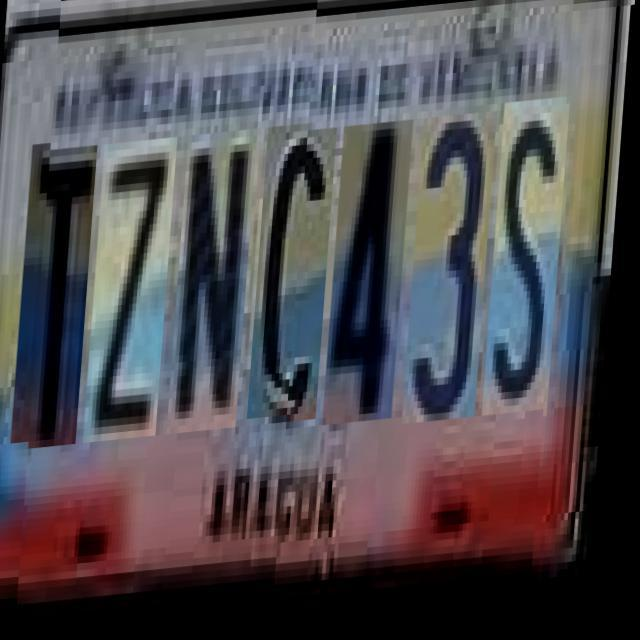3: (410, 115, 500, 427)
4: (330, 122, 416, 426)
C: (254, 128, 340, 425)
N: (173, 135, 260, 439)
S: (489, 102, 573, 420)
T: (17, 148, 100, 452)
Z: (90, 142, 180, 446)
